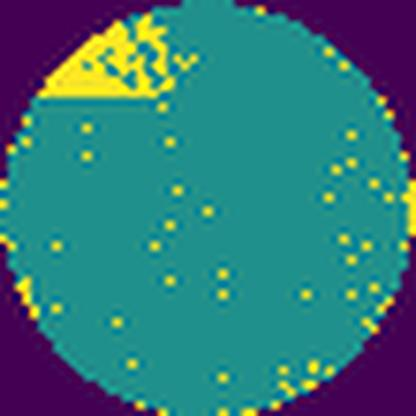Edge-Loc: (38, 16, 194, 104)
